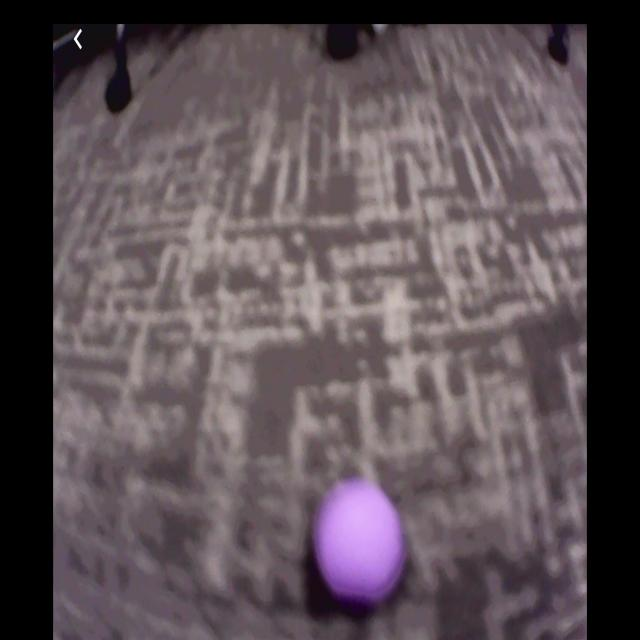ball: (316, 480, 406, 603)
